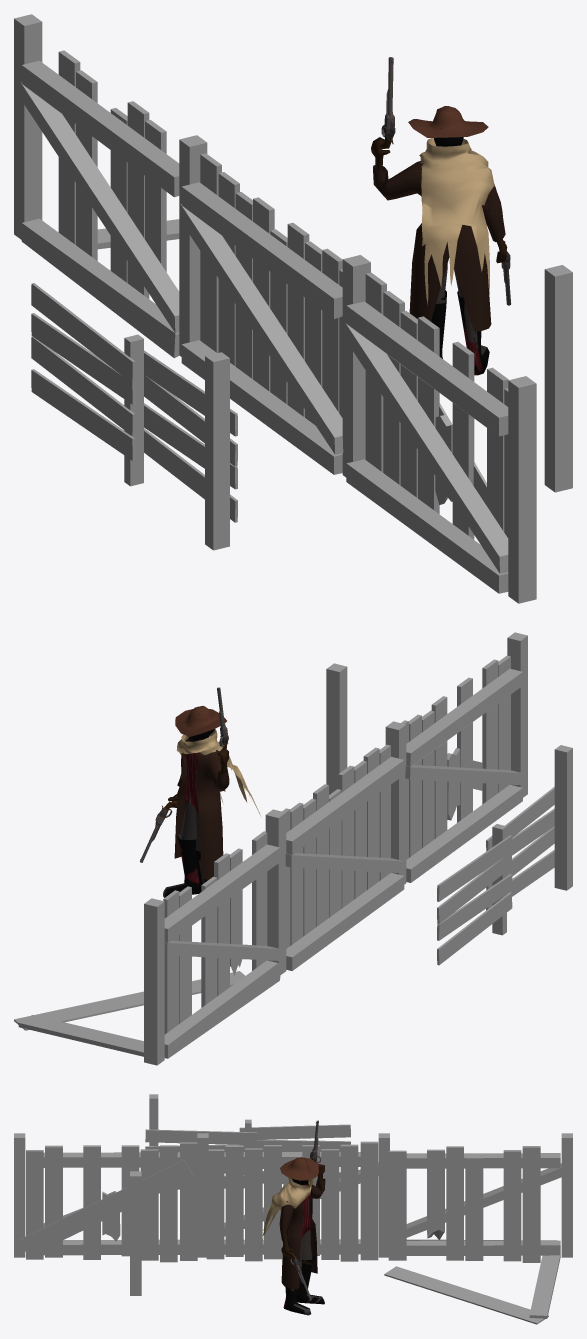
File: SnappableFences & Gunslinger.obj
The picture shows the model from 3 angles, top to bottom: view 1: azimuth 30°, elevation 25°; view 2: azimuth 150°, elevation 25°; view 3: azimuth 270°, elevation 25°; orthographic projection. The views are drawn at different scales.
Parts seen in each view (by area): view 1: Fence_2_-_Variant_1_Cube.001, Fence_2_-_Variant_2_Cube.003, Fence_2_-_Variant_3_Cube.005, Fence_1_-_Variant_1_Cube.002, Gunslinger_SizeRef_Default_Body_Cube.003, Fence_2_Post.004_Cube.009, Fence_2_Post_Cube.006, Fence_2_Post.001_Cube.008, Fence_2_Post.002_Cube.004, Fence_2_Post.003_Cube.007, Revolver_Model_Cube.006; view 2: Fence_2_-_Variant_3_Cube.005, Fence_2_-_Variant_1_Cube.001, Fence_2_-_Variant_2_Cube.003, Fence_1_-_Variant_1_Cube.002, Gunslinger_SizeRef_Default_Body_Cube.003, Fence_2_Post.001_Cube.008, Fence_2_Post.003_Cube.007, Fence_2_Post.004_Cube.009, Fence_2_Post_Cube.006, Fence_2_Post.002_Cube.004; view 3: Fence_2_-_Variant_3_Cube.005, Fence_2_-_Variant_2_Cube.003, Fence_2_-_Variant_1_Cube.001, Gunslinger_SizeRef_Default_Body_Cube.003, Fence_1_-_Variant_1_Cube.002, Fence_2_Post.004_Cube.009, Fence_2_Post.002_Cube.004, Fence_2_Post.001_Cube.008, Fence_2_Post_Cube.006, Fence_2_Post.003_Cube.007.
Part boxes in pixels (x1=…): Fence_2_-_Variant_1_Cube.001: x1=180, y1=153, x2=343, y2=474; Fence_2_-_Variant_2_Cube.003: x1=345, y1=272, x2=508, y2=593; Fence_2_-_Variant_3_Cube.005: x1=20, y1=50, x2=179, y2=358; Fence_1_-_Variant_1_Cube.002: x1=31, y1=283, x2=237, y2=550; Gunslinger_SizeRef_Default_Body_Cube.003: x1=371, y1=106, x2=507, y2=375; Fence_2_Post.004_Cube.009: x1=544, y1=265, x2=572, y2=492; Fence_2_Post_Cube.006: x1=508, y1=376, x2=536, y2=603; Fence_2_Post.001_Cube.008: x1=14, y1=14, x2=42, y2=239; Fence_2_Post.002_Cube.004: x1=342, y1=255, x2=370, y2=477; Fence_2_Post.003_Cube.007: x1=179, y1=135, x2=207, y2=356; Revolver_Model_Cube.006: x1=381, y1=57, x2=395, y2=148; Fence_2_-_Variant_3_Cube.005: x1=14, y1=831, x2=280, y2=1058; Fence_2_-_Variant_1_Cube.001: x1=282, y1=744, x2=405, y2=970; Fence_2_-_Variant_2_Cube.003: x1=401, y1=655, x2=523, y2=882; Fence_1_-_Variant_1_Cube.002: x1=437, y1=745, x2=572, y2=965; Gunslinger_SizeRef_Default_Body_Cube.003: x1=163, y1=706, x2=261, y2=897; Fence_2_Post.001_Cube.008: x1=144, y1=898, x2=164, y2=1065; Fence_2_Post.003_Cube.007: x1=265, y1=809, x2=286, y2=975; Fence_2_Post.004_Cube.009: x1=326, y1=663, x2=347, y2=794; Fence_2_Post_Cube.006: x1=507, y1=632, x2=527, y2=797; Fence_2_Post.002_Cube.004: x1=385, y1=721, x2=406, y2=884; Fence_2_-_Variant_3_Cube.005: x1=384, y1=1146, x2=561, y2=1324; Fence_2_-_Variant_2_Cube.003: x1=19, y1=1142, x2=197, y2=1262; Fence_2_-_Variant_1_Cube.001: x1=206, y1=1141, x2=378, y2=1261; Gunslinger_SizeRef_Default_Body_Cube.003: x1=260, y1=1157, x2=325, y2=1315; Fence_1_-_Variant_1_Cube.002: x1=145, y1=1094, x2=350, y2=1189; Fence_2_Post.004_Cube.009: x1=130, y1=1171, x2=141, y2=1295; Fence_2_Post.002_Cube.004: x1=197, y1=1133, x2=208, y2=1257; Fence_2_Post.001_Cube.008: x1=561, y1=1133, x2=572, y2=1257; Fence_2_Post_Cube.006: x1=14, y1=1133, x2=25, y2=1257; Fence_2_Post.003_Cube.007: x1=378, y1=1133, x2=389, y2=1257.
Bounding box in the file's own units: 9.79 × 6.93 × 19.3.
